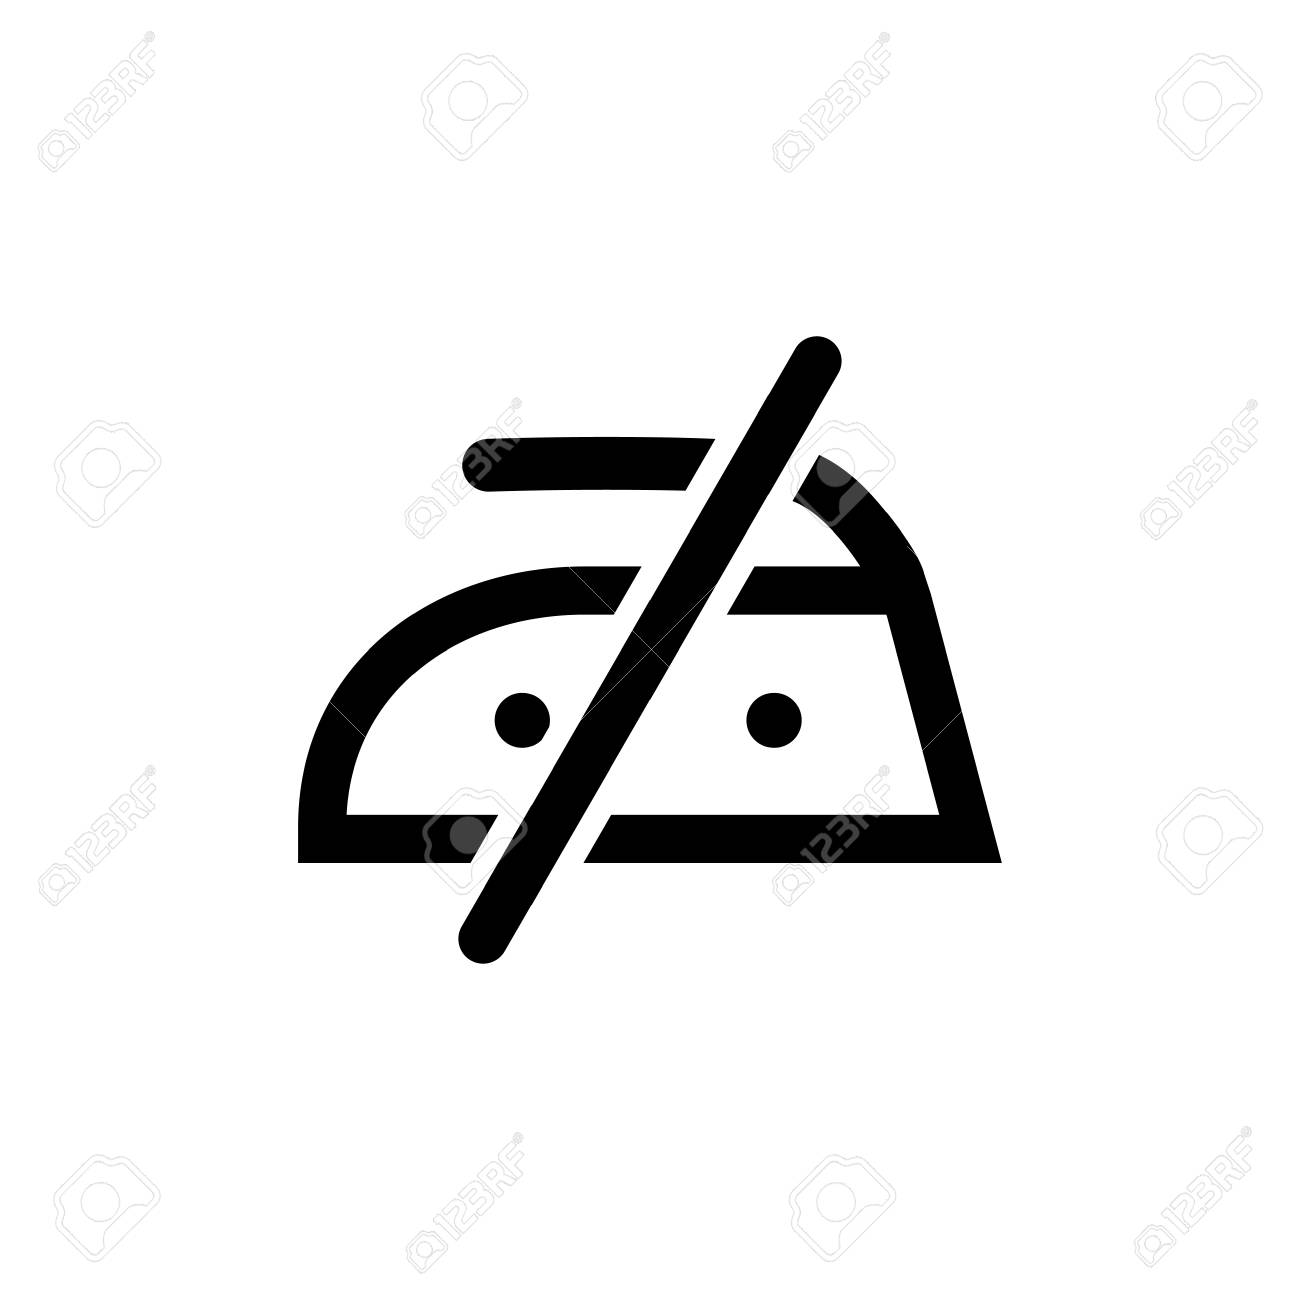do_not_iron: (304, 340, 1004, 964)
